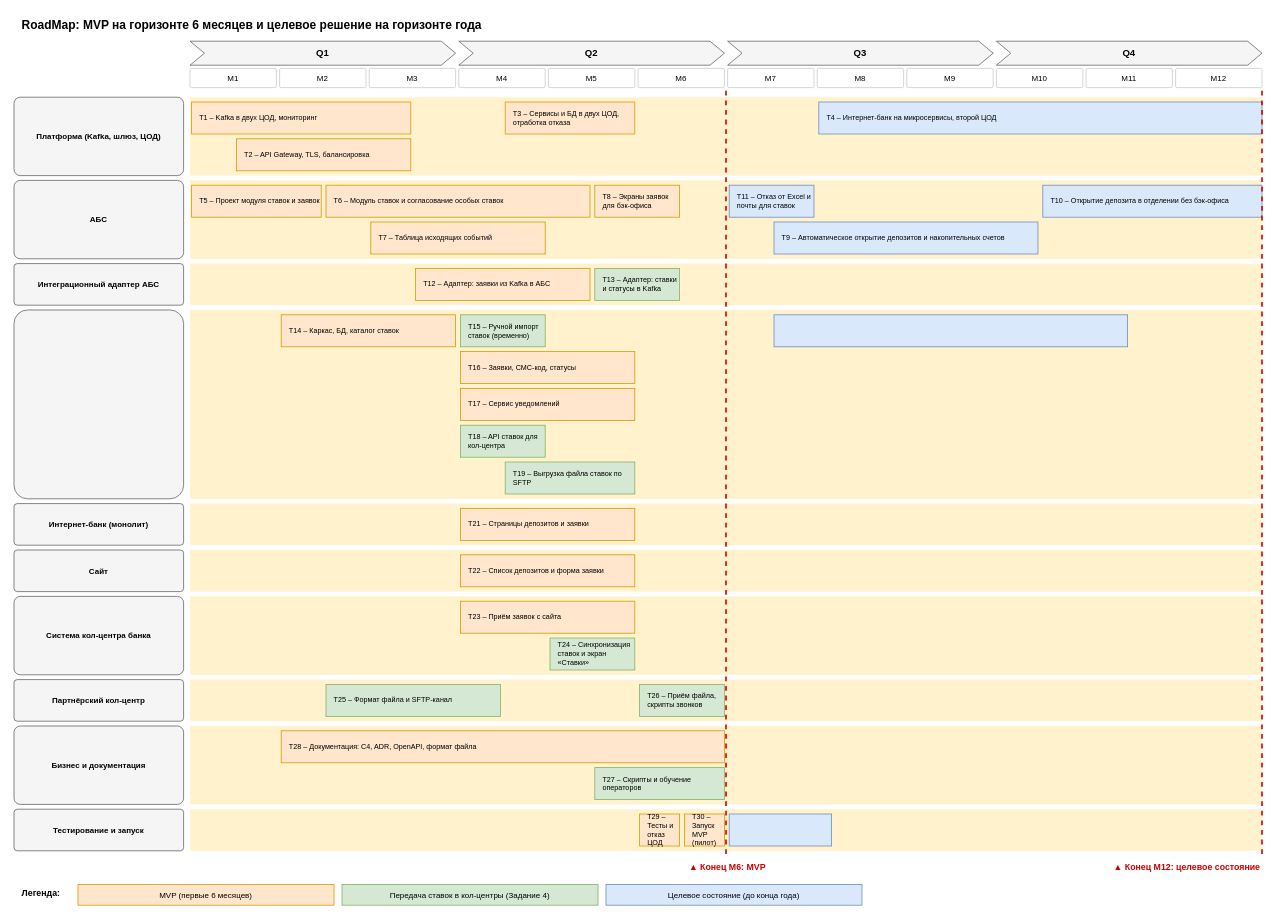
Image size: 1278x919. Some labels were removed from this diagram. Each missing label, with the centre of its shape:
T20 – Накопительные счета в Сервисе депозитов: (950,330)
T31 – Маркетинговая кампания: (780,829)
Сервис депозитов и уведомлений: (98,404)
